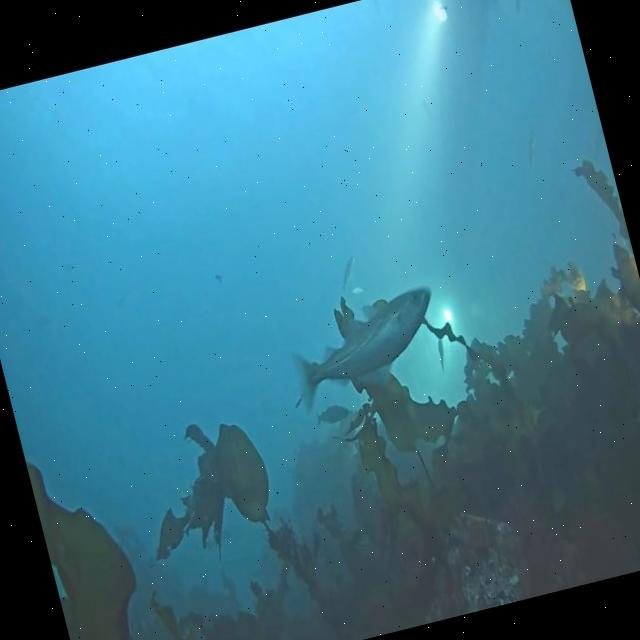fish: (282, 283, 449, 412), (334, 255, 363, 294), (519, 126, 543, 169), (433, 337, 449, 373), (507, 0, 527, 15)
